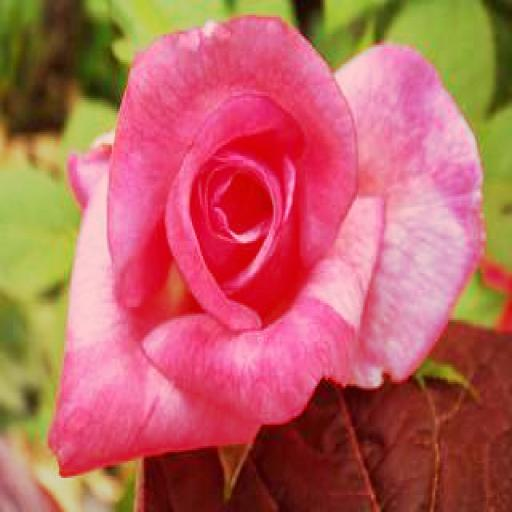rose: (50, 17, 480, 482)
